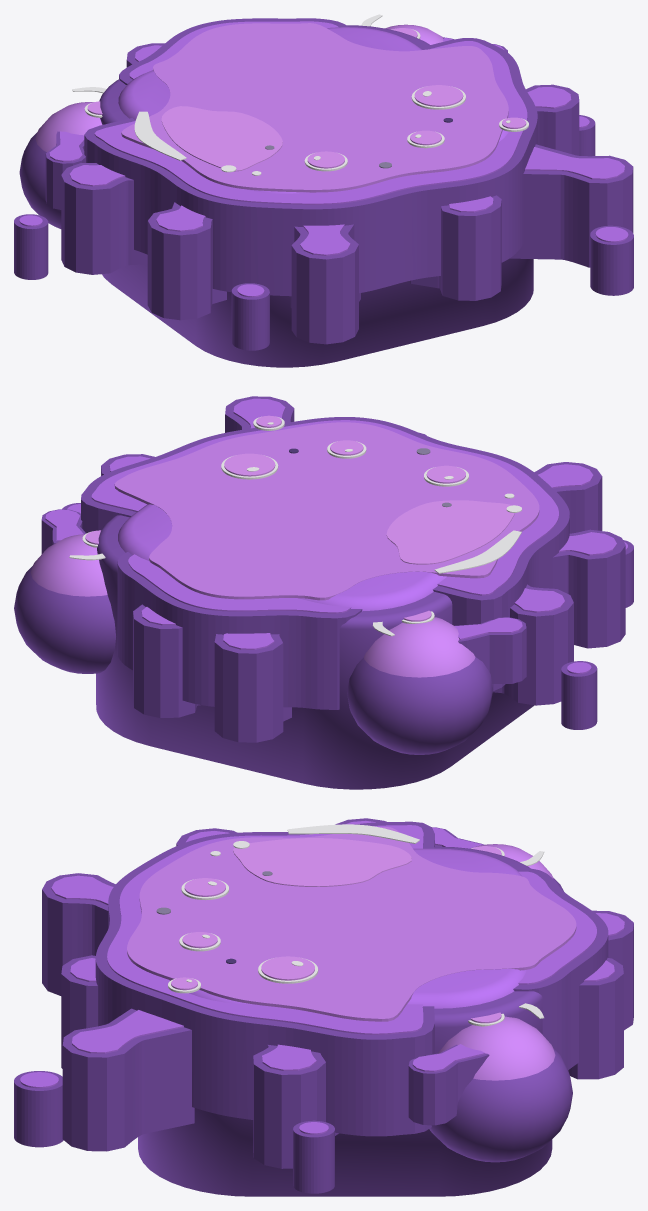
The model's file is body_slime.fbx.
3 renders of one model, top to bottom at view 1: azimuth 30°, elevation 25°; view 2: azimuth 150°, elevation 25°; view 3: azimuth 270°, elevation 25°, orthographic. The views are drawn at different scales.
Parts seen in each view (by area): view 1: body_slime_corpo, body_slime_corpo_translucido, body_slime_mao_esq, body_slime_mao; view 2: body_slime_corpo, body_slime_corpo_translucido, body_slime_mao_esq, body_slime_mao; view 3: body_slime_corpo, body_slime_corpo_translucido, body_slime_mao, body_slime_mao_esq.
Boxes of the visible parts, x1=… form: body_slime_corpo: x1=14, y1=18, x2=633, y2=367; body_slime_corpo_translucido: x1=19, y1=21, x2=628, y2=297; body_slime_mao_esq: x1=19, y1=87, x2=106, y2=228; body_slime_mao: x1=361, y1=14, x2=507, y2=52; body_slime_corpo: x1=62, y1=396, x2=633, y2=789; body_slime_corpo_translucido: x1=67, y1=398, x2=627, y2=674; body_slime_mao_esq: x1=347, y1=611, x2=526, y2=754; body_slime_mao: x1=14, y1=509, x2=115, y2=673; body_slime_corpo: x1=14, y1=818, x2=633, y2=1196; body_slime_corpo_translucido: x1=20, y1=820, x2=624, y2=1134; body_slime_mao: x1=408, y1=1003, x2=572, y2=1162; body_slime_mao_esq: x1=432, y1=827, x2=563, y2=891.
Bounding box in the file's own units: 6.67 × 2.07 × 5.98.
1 material, 1 textured.
